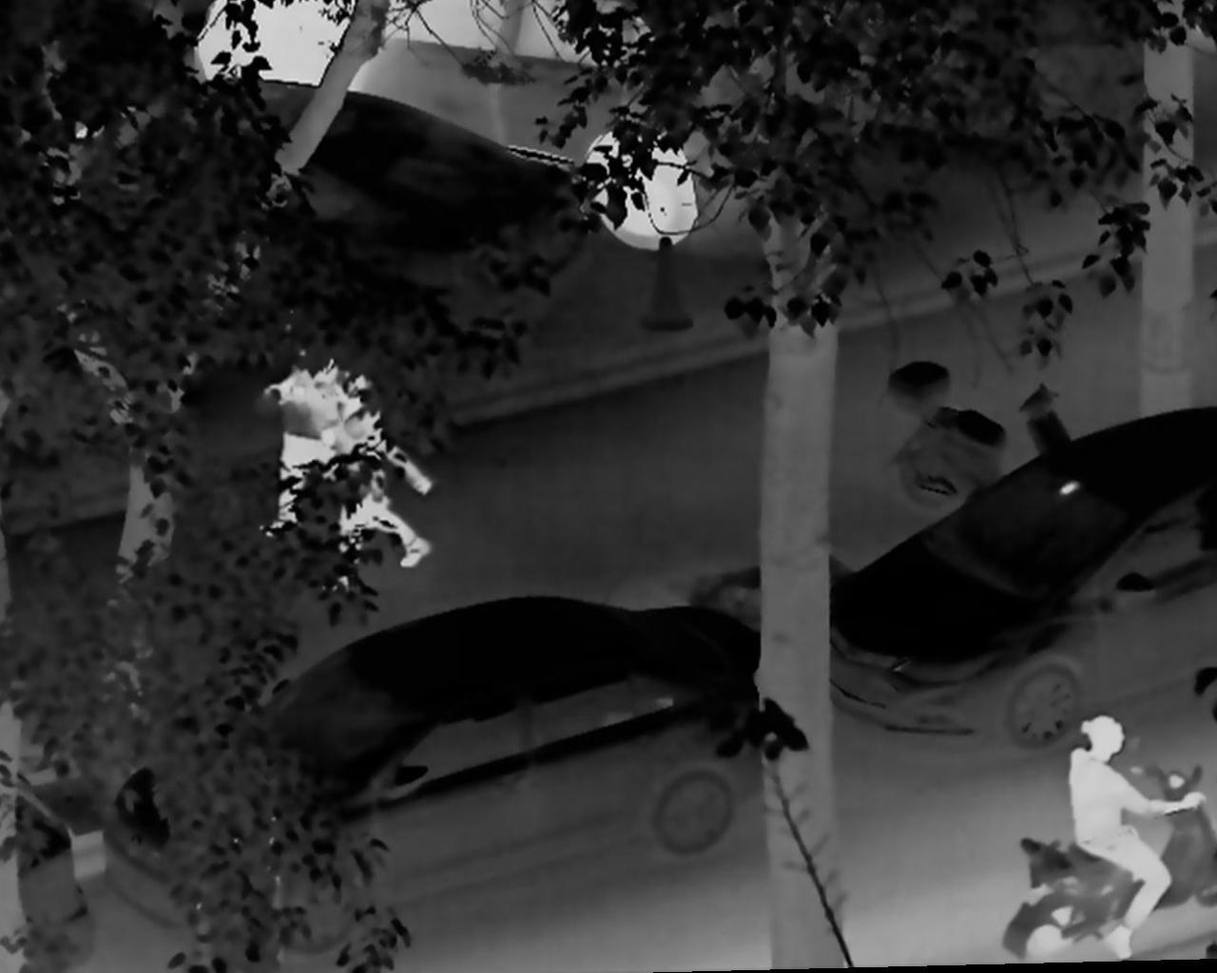person: (1061, 706, 1207, 966), (311, 359, 433, 598), (252, 326, 372, 547)
